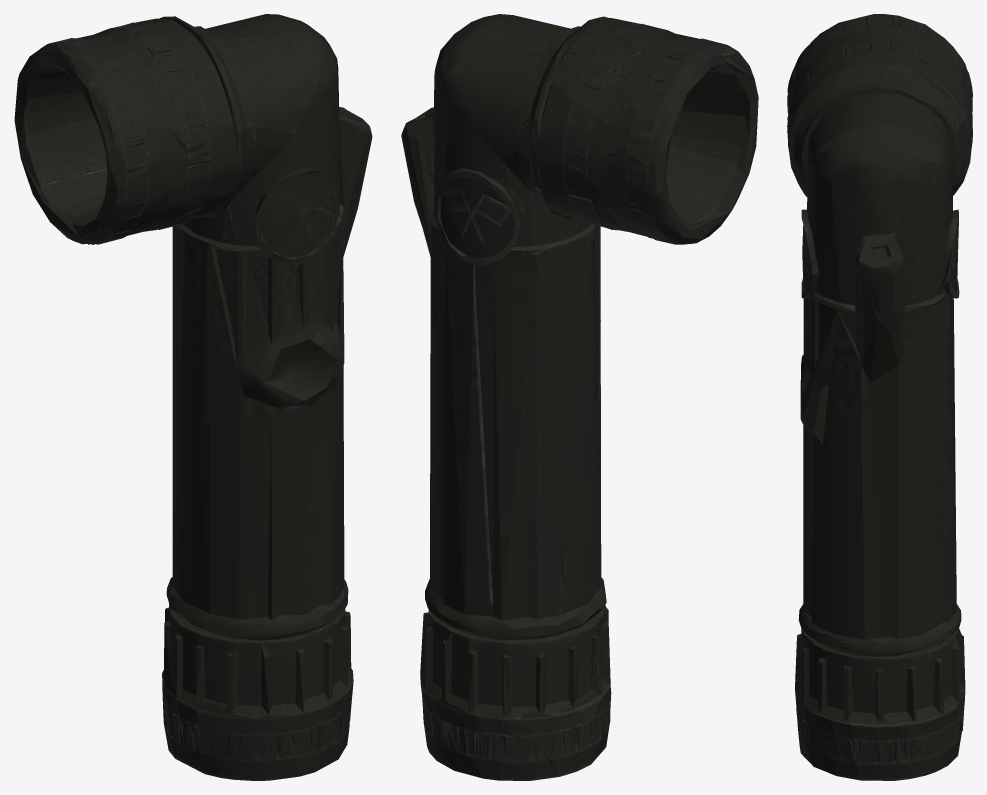
The model's file is torch.glb.
3 views of the same model, side by side, from view 1: azimuth 30°, elevation 25°; view 2: azimuth 150°, elevation 25°; view 3: azimuth 270°, elevation 25° (orthographic). The views are drawn at different scales.
Parts seen in each view (by area): view 1: Mesh_0; view 2: Mesh_0; view 3: Mesh_0.
Boxes of the visible parts, box(x1,y1,x2,y2) form: Mesh_0: box(14, 14, 372, 780); Mesh_0: box(401, 14, 758, 780); Mesh_0: box(787, 14, 972, 780).
Size of the model in its own units: 0.8248 by 1.9 by 0.4895.
1 material, 1 textured.
